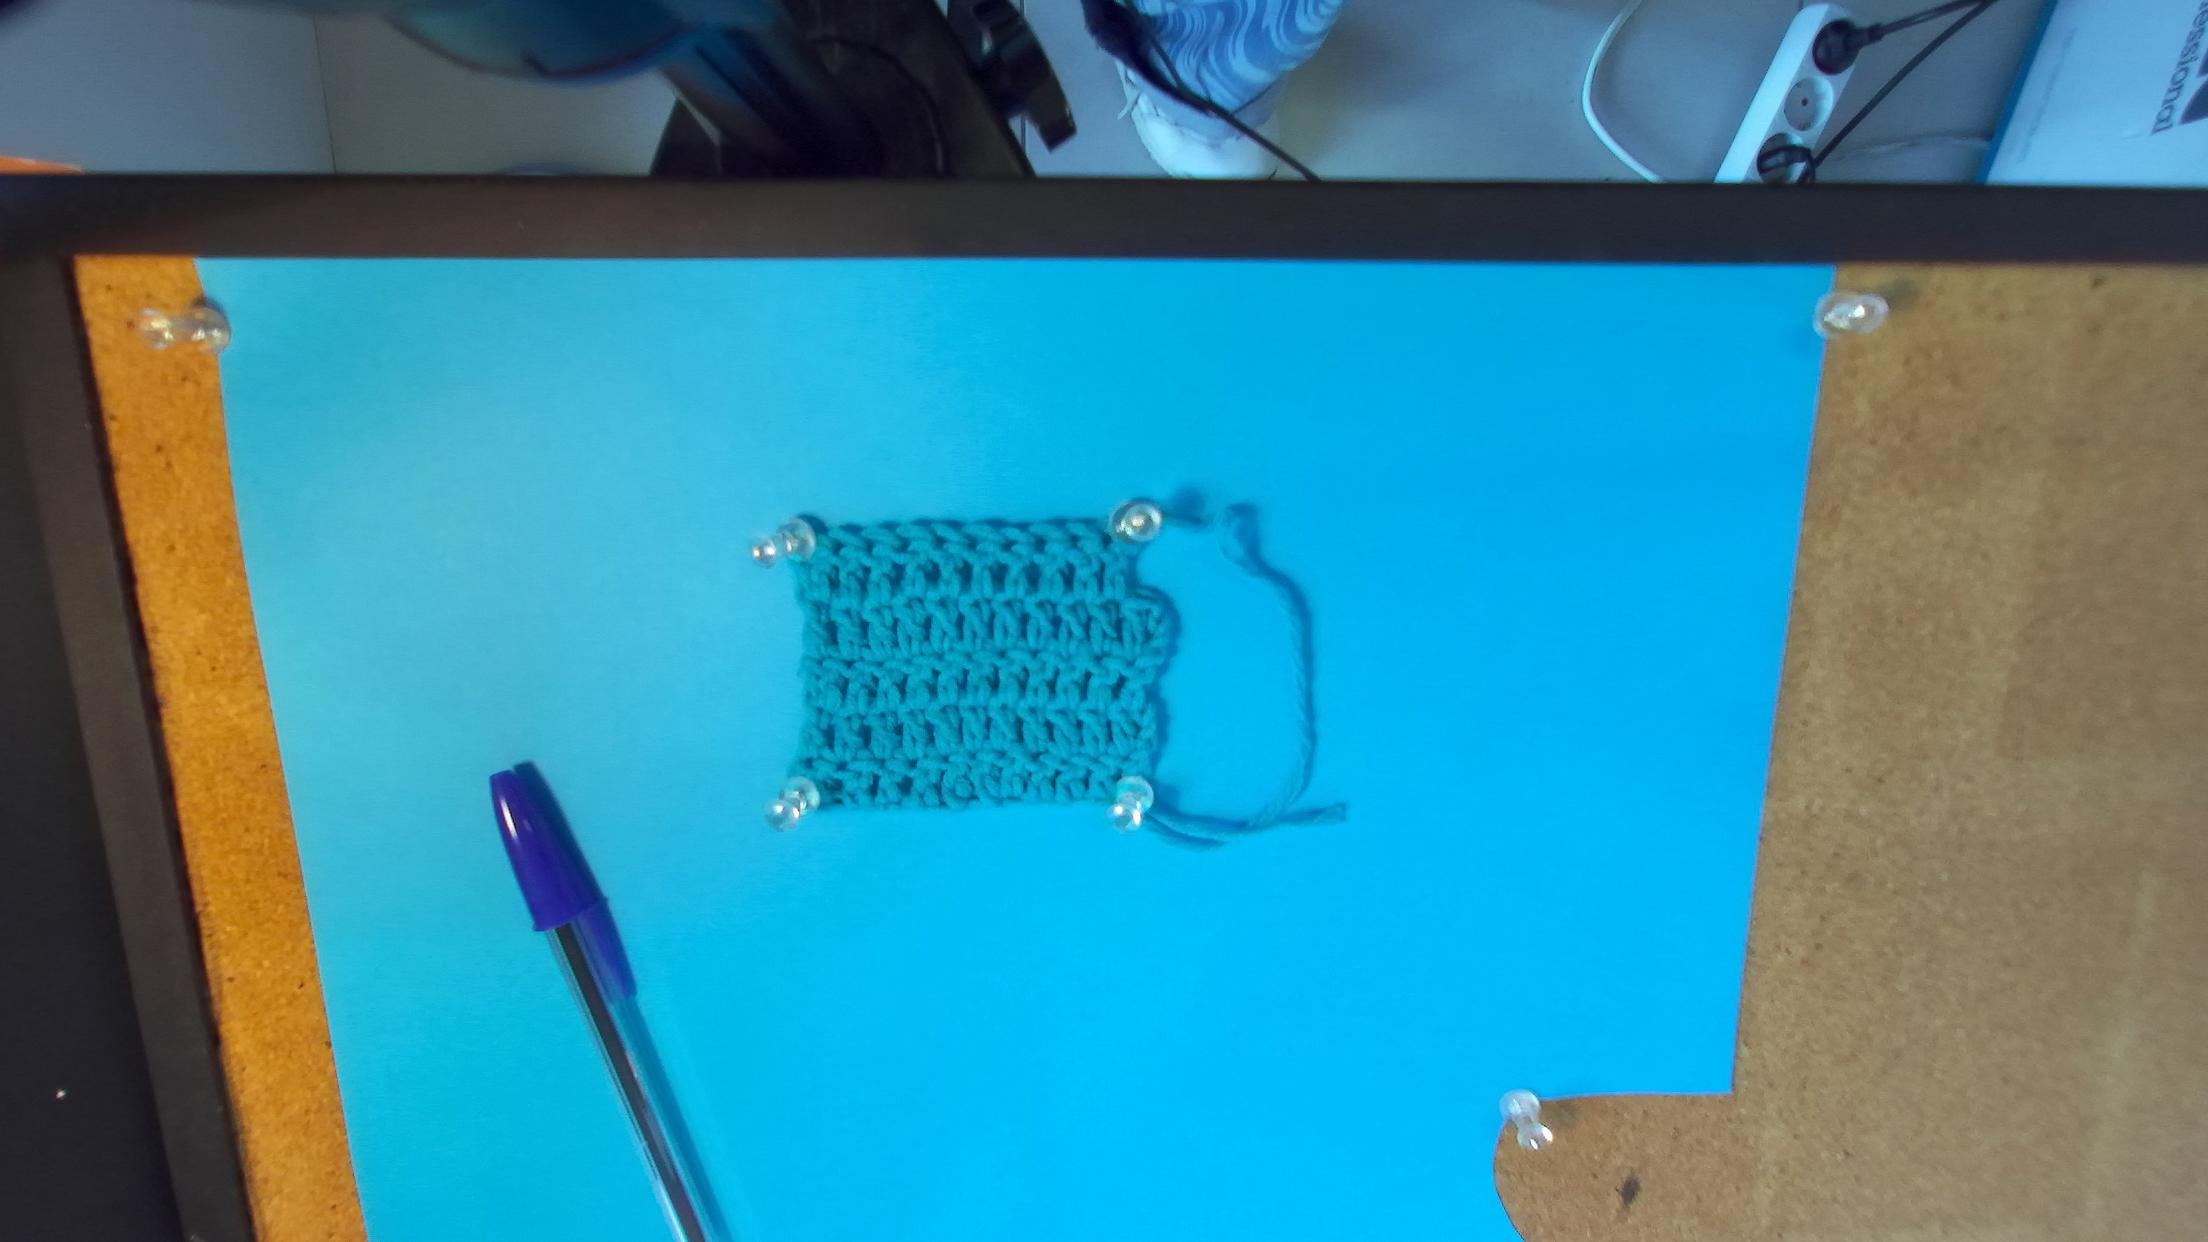hole: (893, 537, 913, 554), (1033, 535, 1049, 554), (966, 532, 981, 552), (998, 537, 1018, 552), (830, 540, 848, 555), (1099, 531, 1115, 549), (931, 534, 948, 549), (1069, 534, 1084, 549), (864, 540, 878, 555)
swatch: (751, 503, 1181, 828)
